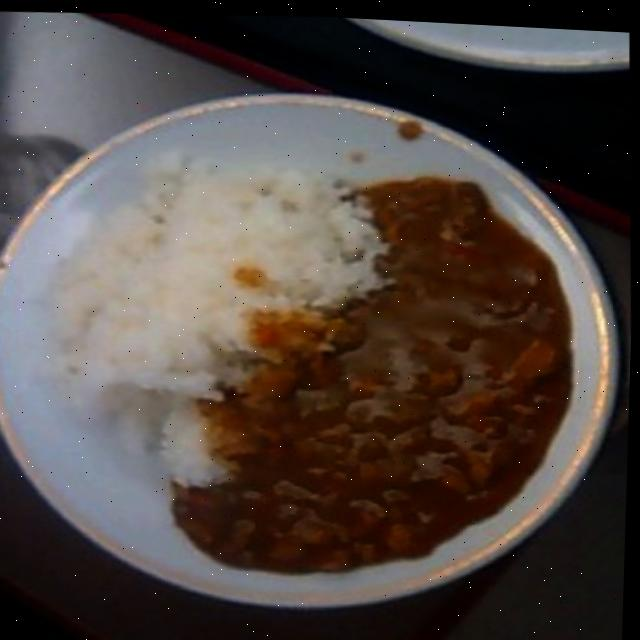牛肉菜式: (0, 61, 639, 605)
